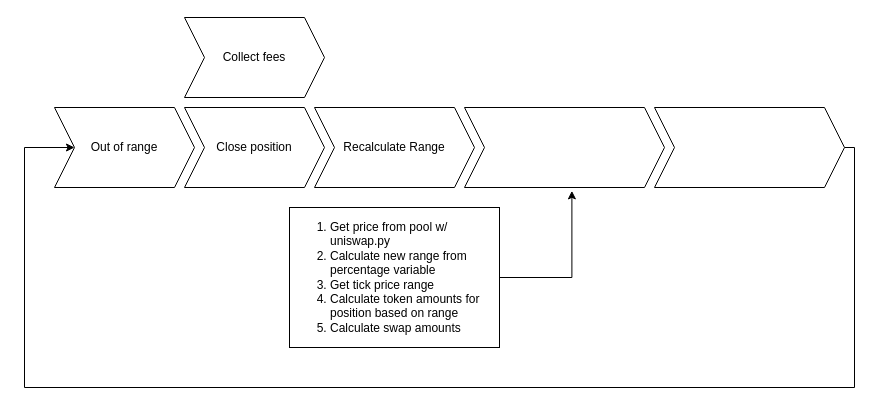
This 880x413 diagram has some shape labels left out. Each missing label, with the centre of its shape:
"Open New Range" belongs at (x=749, y=147).
"Swap ETH <> USDC" belongs at (x=564, y=147).
